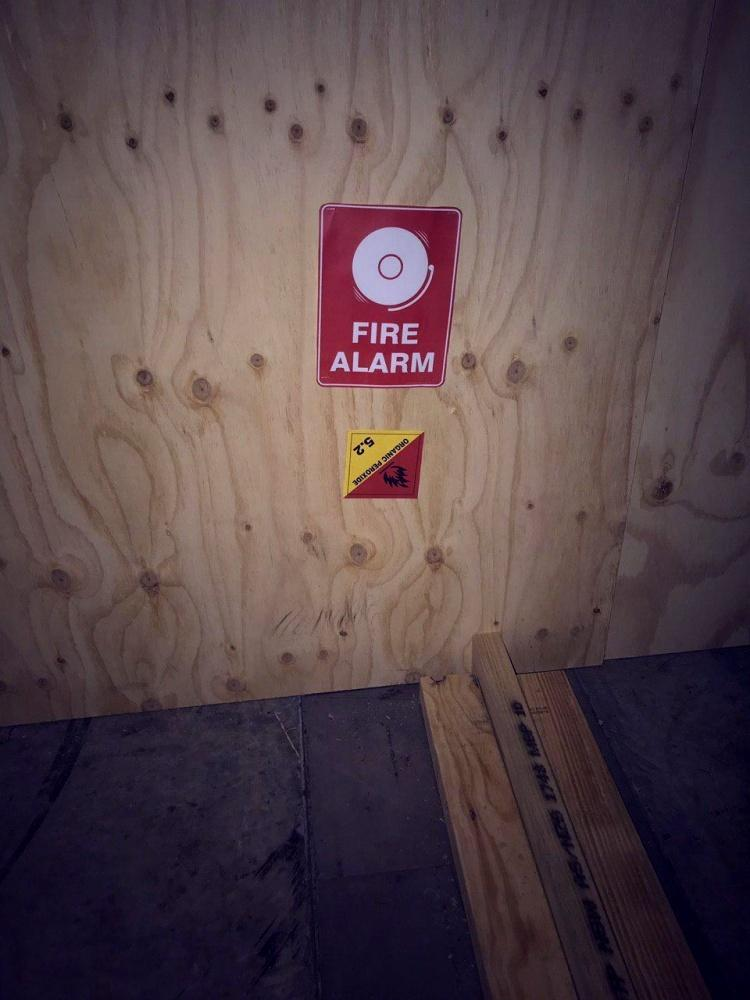organic-peroxide: (341, 430, 428, 501)
